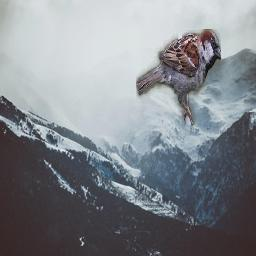Sparrow: (137, 29, 222, 125)
